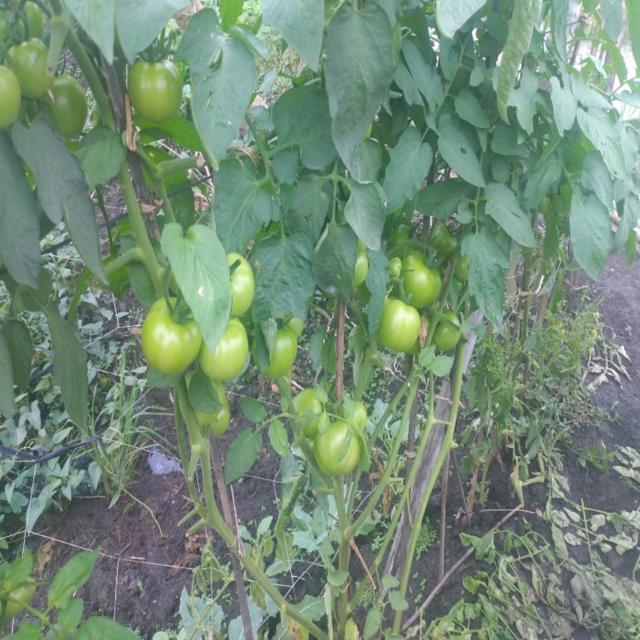tomato: (146, 299, 205, 377), (133, 59, 187, 123), (320, 424, 365, 481), (214, 322, 253, 381), (14, 40, 54, 97), (405, 255, 446, 307), (54, 79, 90, 135), (382, 306, 424, 351), (1, 61, 27, 132), (277, 323, 304, 382), (431, 221, 463, 268), (230, 255, 252, 321), (432, 320, 467, 354), (300, 390, 331, 421), (357, 250, 374, 286), (389, 259, 402, 280)
